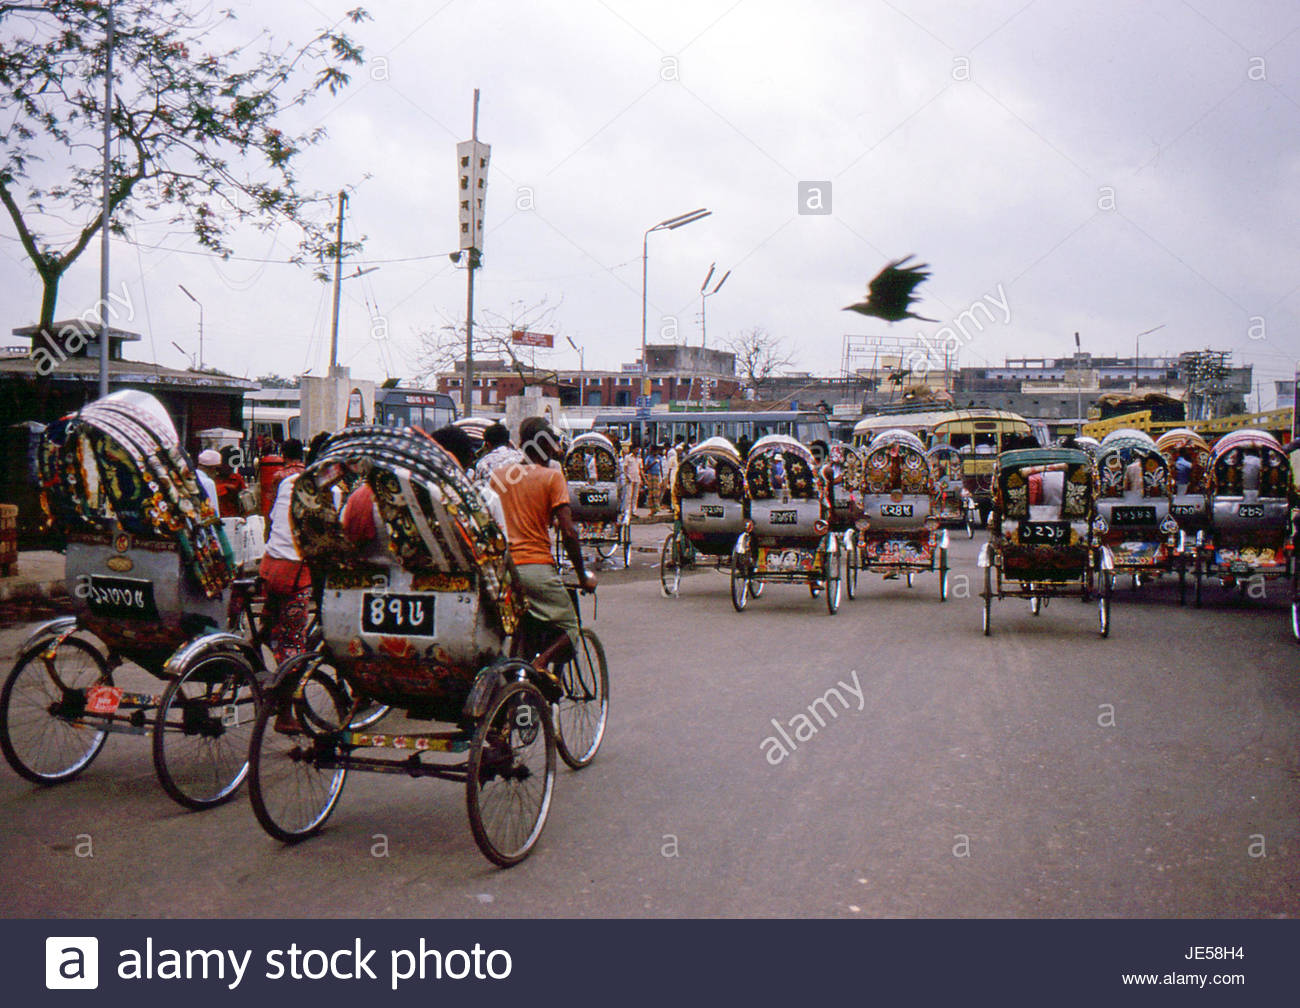Rickshaw: (268, 413, 607, 838), (34, 406, 282, 783), (961, 440, 1092, 647), (741, 424, 859, 609), (1190, 435, 1298, 615), (848, 419, 942, 596), (1092, 421, 1196, 581), (651, 425, 747, 595), (551, 424, 645, 574)
